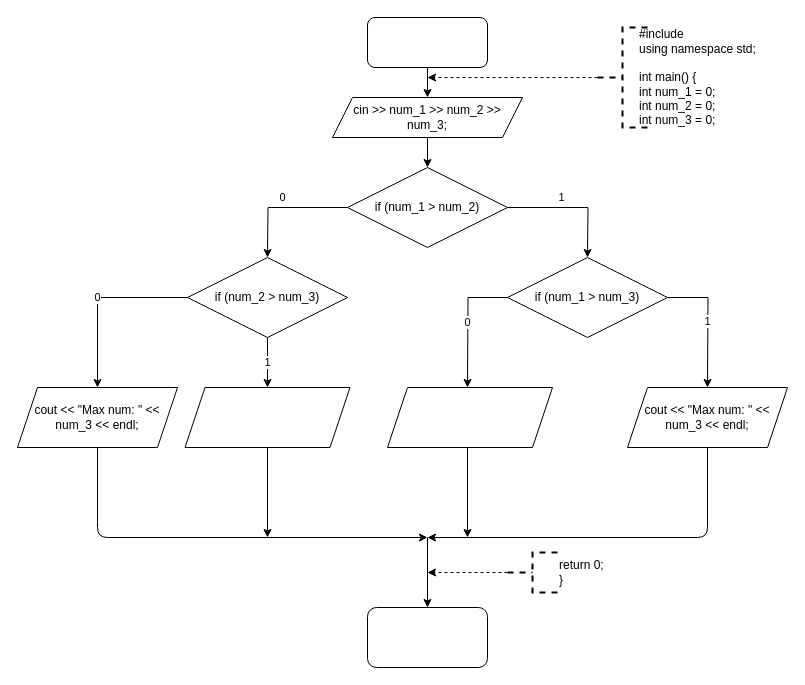
The diagram is 805 pixels wide and 685 high, and some of its shapes have lost their labels. Here are the shapes that lost their labels. From the top down, the centre of each, then its label:
[427,42]: Начало
[267,417]: cout << "Max num: " << num_2 << endl;
[469,417]: cout << "Max num: " << num_1 << endl;
[427,637]: Конец
